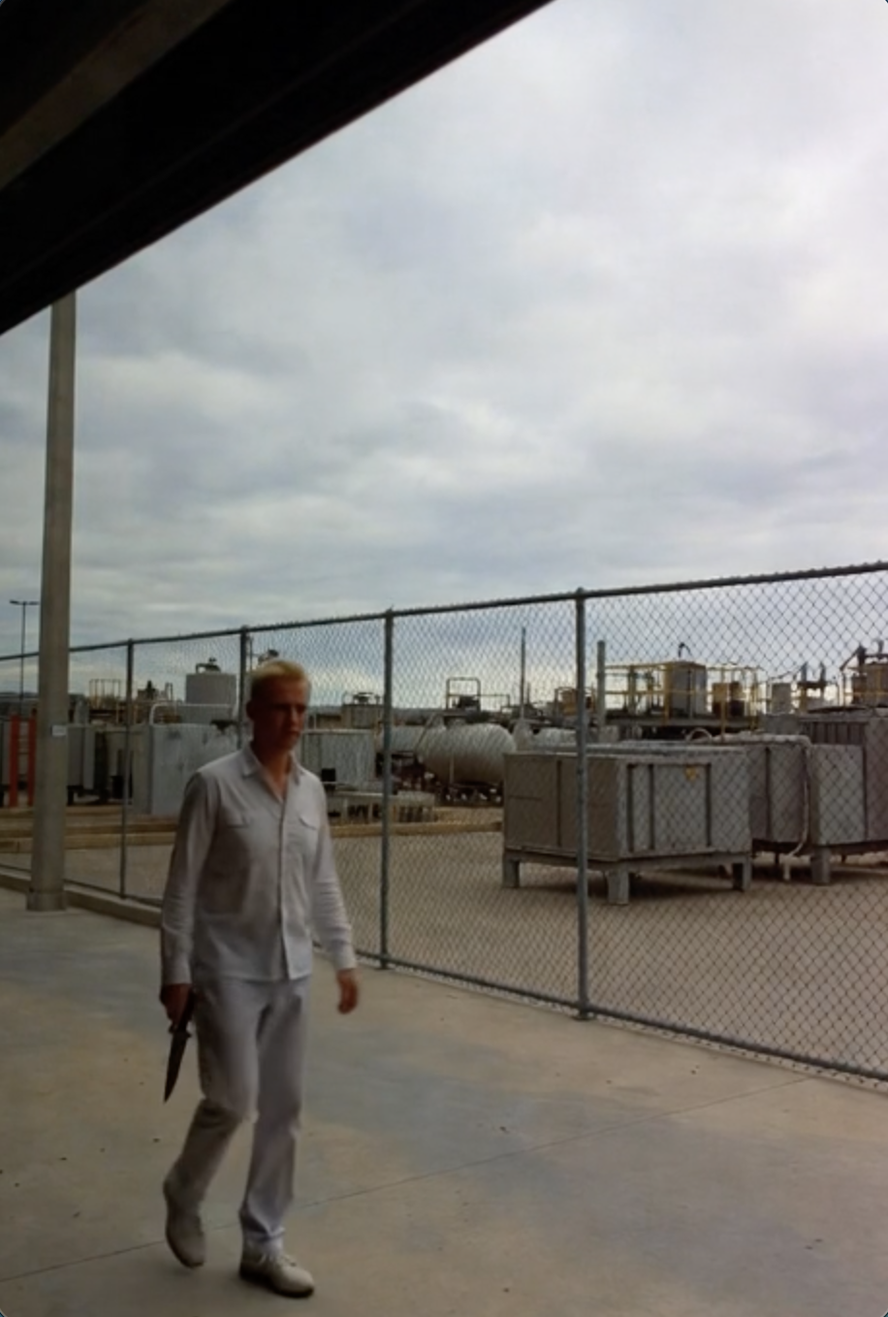Heavy Gun: (155, 653, 360, 1305)
Knife: (151, 983, 199, 1108)
